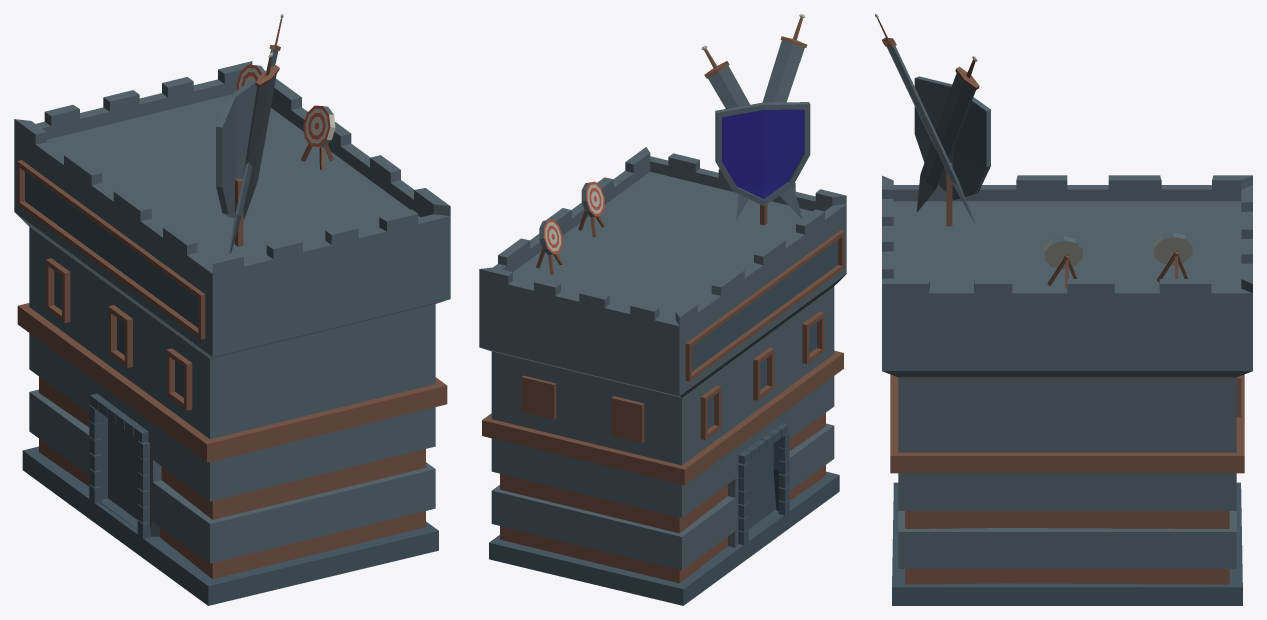
File: barracks_tower.fbx
3 views of the same model, side by side, from view 1: azimuth 30°, elevation 25°; view 2: azimuth 150°, elevation 25°; view 3: azimuth 270°, elevation 25° (orthographic). The views are drawn at different scales.
Visible parts, largest first — view 1: barracktower; view 2: barracktower; view 3: barracktower.
Boxes of the visible parts, box(x1,y1,x2,y2) form: barracktower: box(14, 14, 450, 605); barracktower: box(479, 14, 846, 605); barracktower: box(875, 14, 1252, 605).
Bounding box in the file's own units: 2.39 × 5.11 × 3.42.
